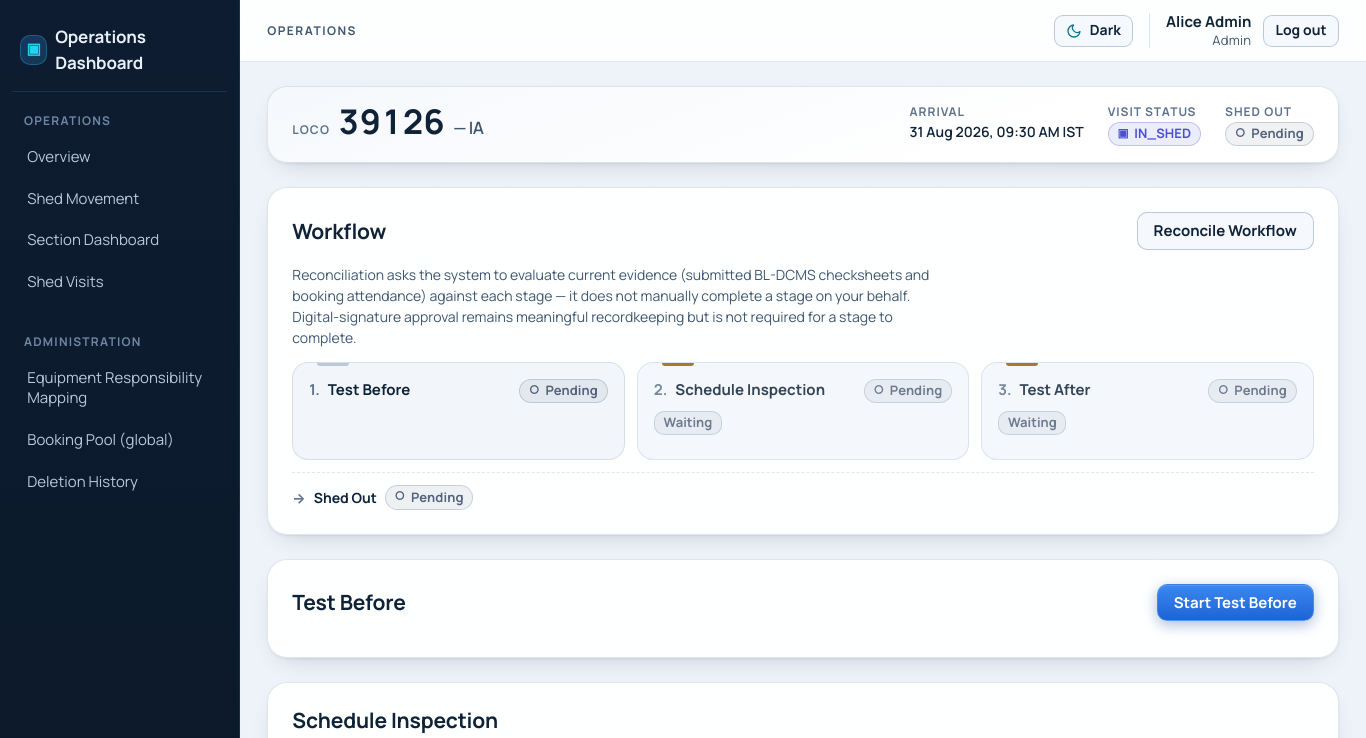
Test: ShedVisitWorkflowPage — Schedule Inspection › becomes actionable for Admin once Test Before is completed
What coordinates should you click on to do the following:
click the button "Start Test Before"
I would click on:
 (1235, 602)
Its box is [1157,584,1314,621].
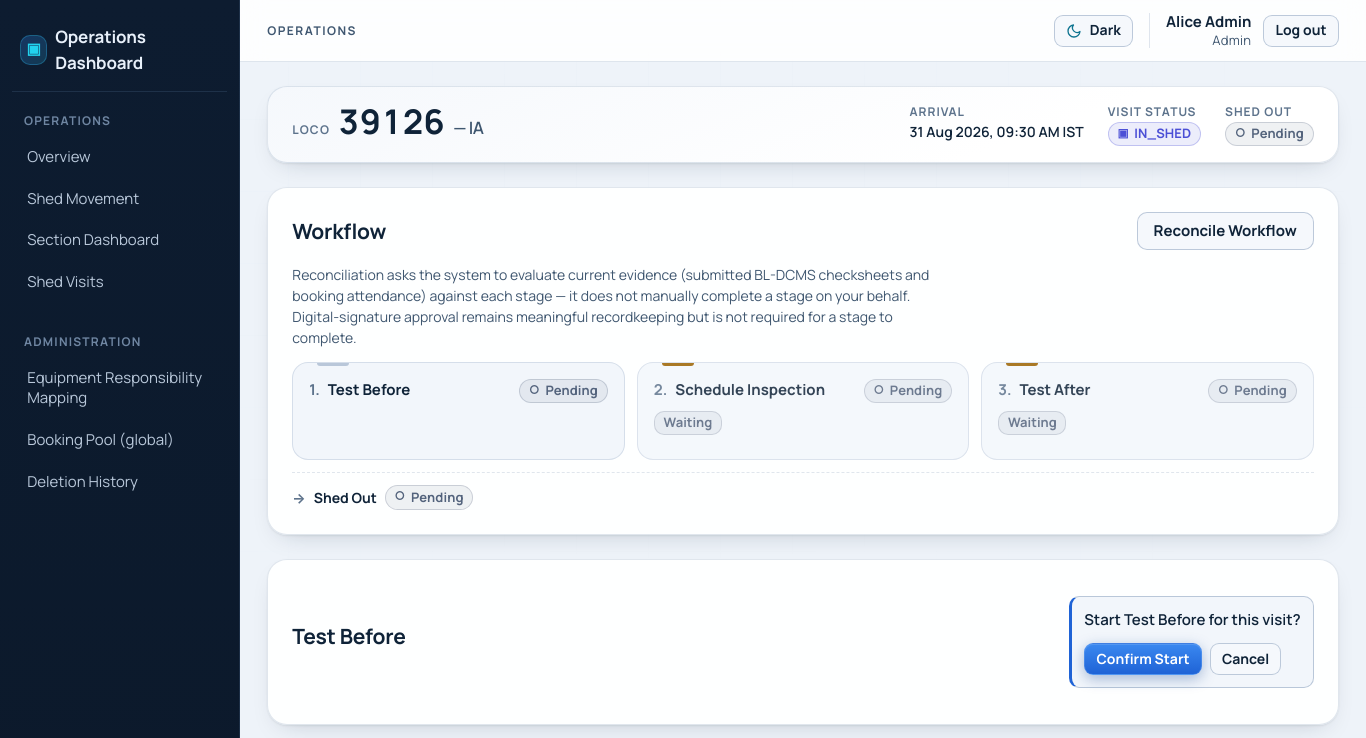
What coordinates should you click on to do the following:
click the button "Confirm Start"
I would click on:
 (1143, 659)
Its box is [1084,643,1202,675].
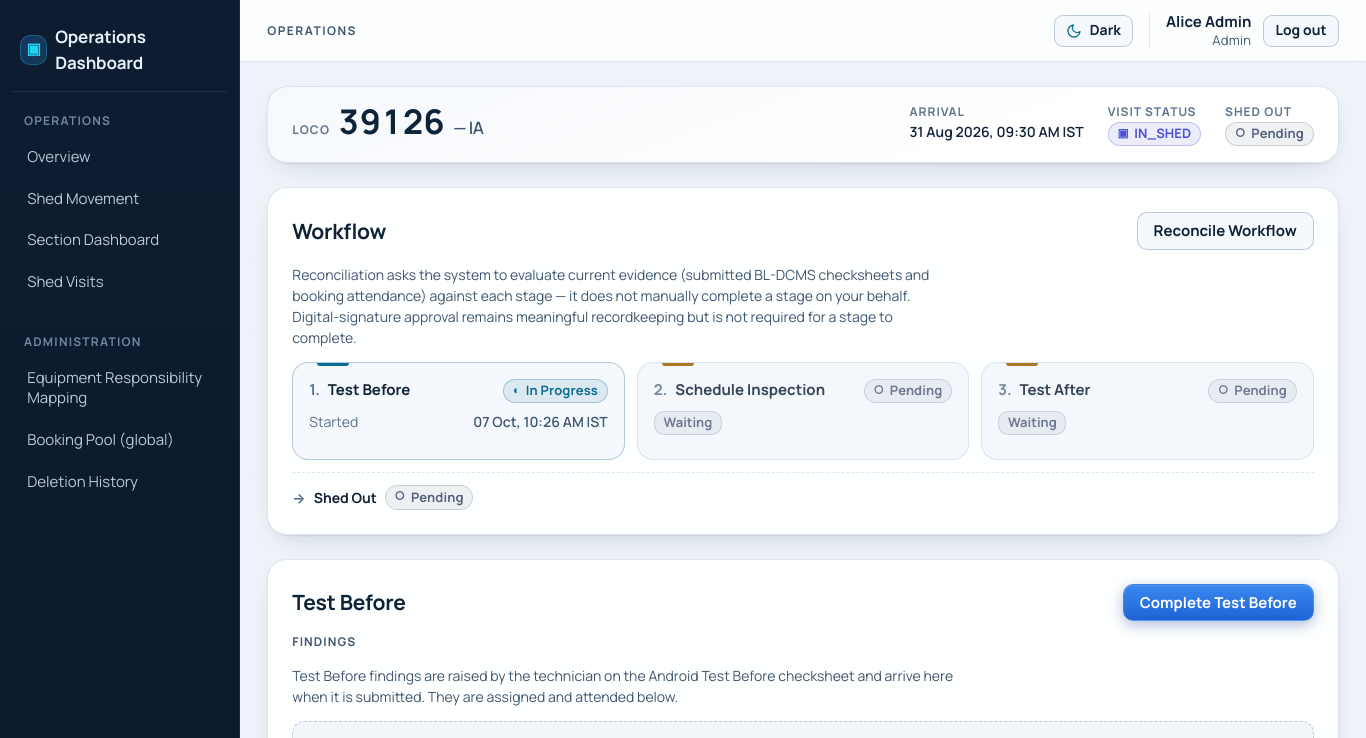
What coordinates should you click on to do the following:
click the button "Complete Test Before"
I would click on:
 (1218, 602)
Its box is [1123,584,1314,621].
(page scrolled)
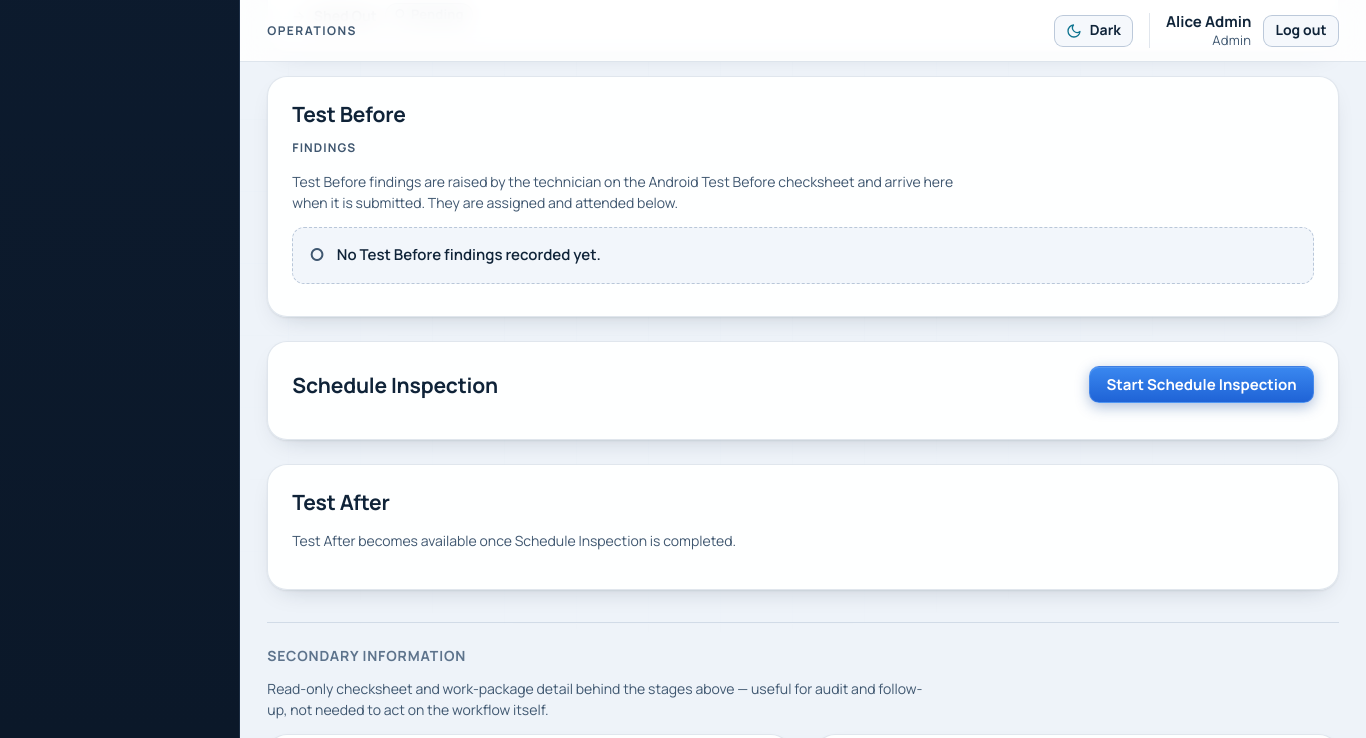
expect the button "Start Schedule Inspection" is shown: met, box [1090,366,1314,403]
